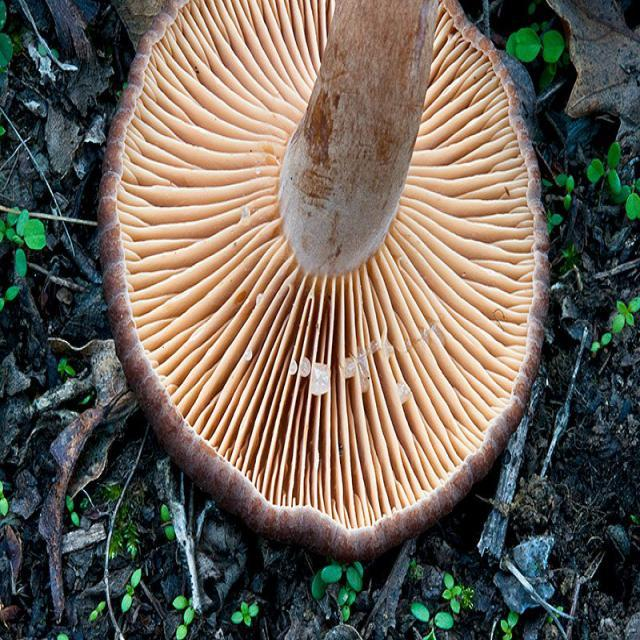Armillaria mellea: (102, 0, 550, 556)
